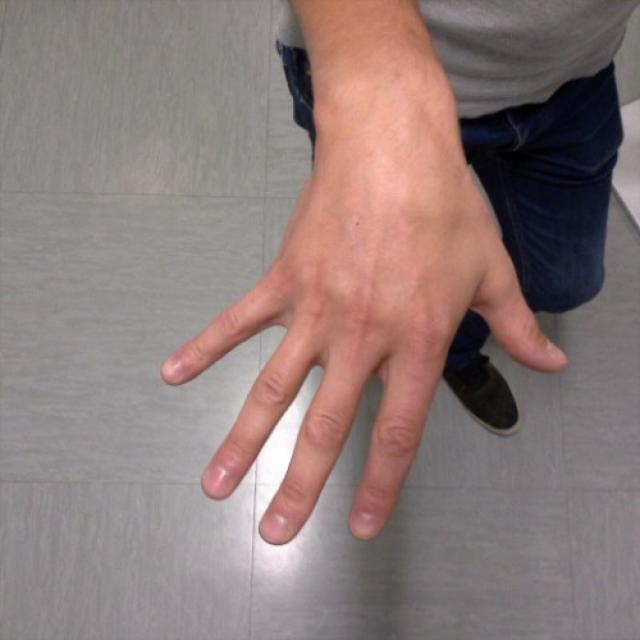paper: (164, 204, 567, 548)
